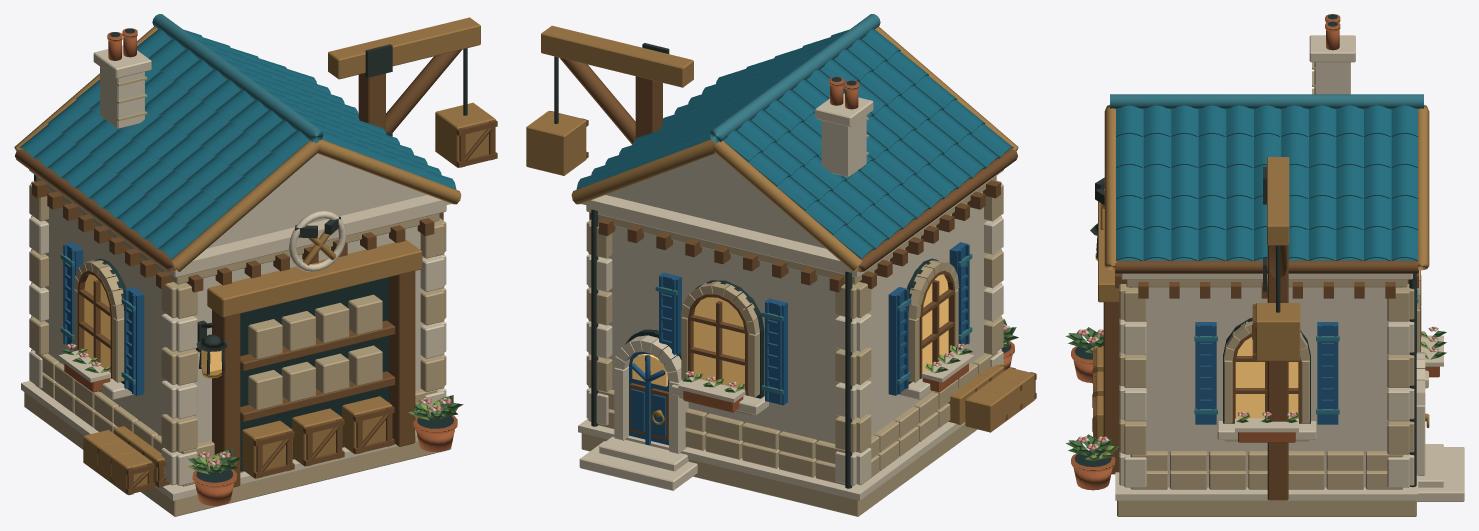
3 views of the same model, side by side, from view 1: azimuth 30°, elevation 25°; view 2: azimuth 150°, elevation 25°; view 3: azimuth 270°, elevation 25° (orthographic).
Visible parts, largest first — view 1: harbor_builders_guild_geometry, harbor_crane_load_geometry; view 2: harbor_builders_guild_geometry, harbor_crane_load_geometry; view 3: harbor_builders_guild_geometry, harbor_crane_load_geometry.
Boxes of the visible parts, x1,y1,x2,y2 form: harbor_builders_guild_geometry: [14, 14, 480, 516]; harbor_crane_load_geometry: [435, 48, 497, 167]; harbor_builders_guild_geometry: [541, 14, 1036, 516]; harbor_crane_load_geometry: [526, 56, 588, 175]; harbor_builders_guild_geometry: [1065, 14, 1464, 516]; harbor_crane_load_geometry: [1252, 245, 1300, 361].
Size of the model in its own units: 1.04 by 0.9099 by 0.8444.
